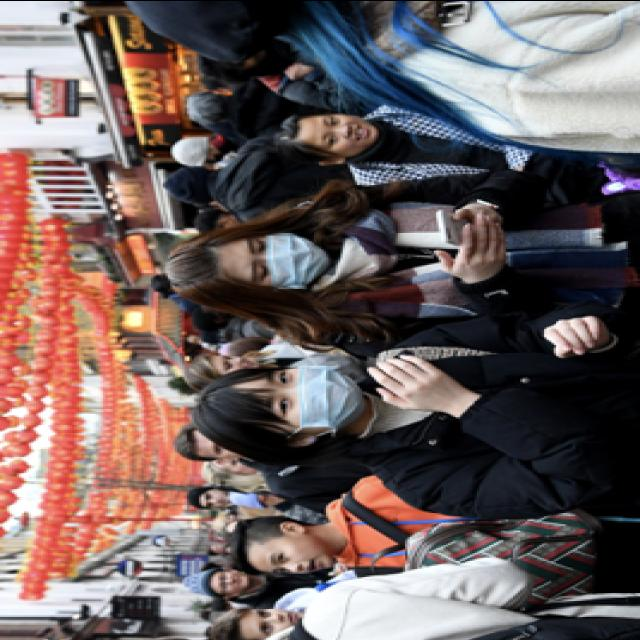with_mask: (256, 363, 362, 429), (240, 232, 330, 288)
without_mask: (259, 536, 333, 574), (312, 112, 376, 155), (250, 606, 298, 638), (209, 568, 249, 594), (216, 354, 256, 374), (202, 488, 228, 509)
